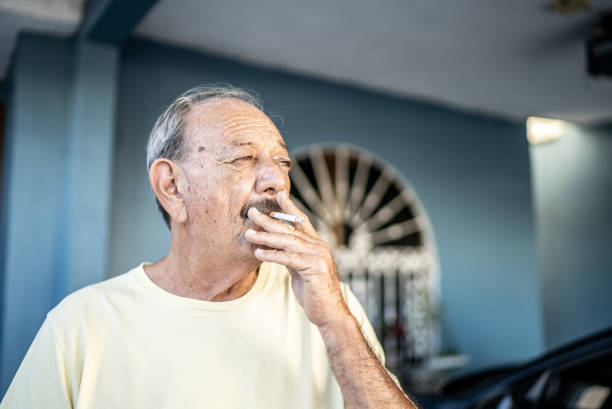cigarette: (269, 211, 305, 225)
